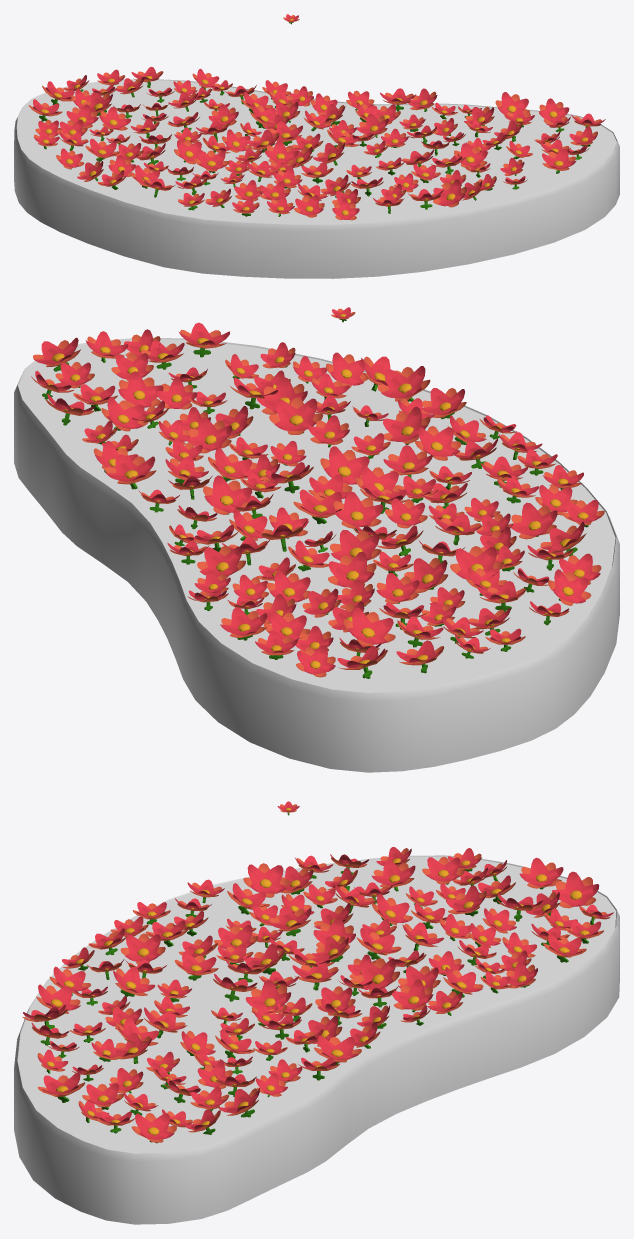
Rendered from FlowerPot1.fbx.
3 renders of one model, top to bottom at view 1: azimuth 30°, elevation 25°; view 2: azimuth 150°, elevation 25°; view 3: azimuth 270°, elevation 25°, orthographic. The views are drawn at different scales.
Visible parts, largest first — view 1: FlowerBase, FlowerGeneration; view 2: FlowerBase, FlowerGeneration; view 3: FlowerBase, FlowerGeneration.
Boxes of the visible parts, <box> form: FlowerBase: <box>14,79,619,278</box>; FlowerGeneration: <box>28,66,605,220</box>; FlowerBase: <box>14,337,619,772</box>; FlowerGeneration: <box>31,322,604,678</box>; FlowerBase: <box>14,855,619,1224</box>; FlowerGeneration: <box>22,847,613,1143</box>.
Bounding box in the file's own units: 329 × 127 × 280.
